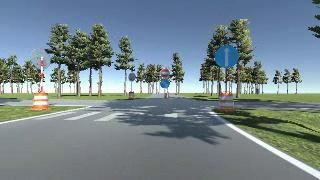go_ahead: (215, 45, 239, 68)
